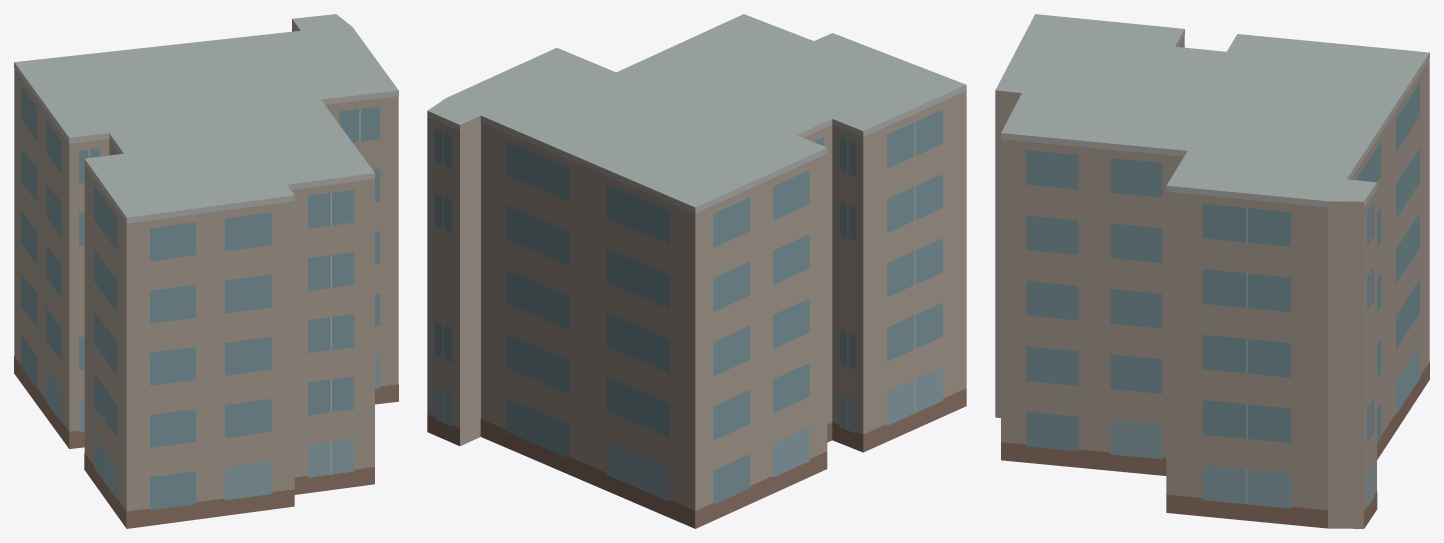
Rendered from survey-upis-32702454.glb.
3 views of the same model, side by side, from view 1: azimuth 30°, elevation 25°; view 2: azimuth 150°, elevation 25°; view 3: azimuth 270°, elevation 25° (orthographic). The views are drawn at different scales.
Visible parts, largest first — view 1: survey-upis-32702454.tmp; view 2: survey-upis-32702454.tmp; view 3: survey-upis-32702454.tmp.
Part boxes in pixels (<box>): survey-upis-32702454.tmp: <box>14,14,398,528</box>; survey-upis-32702454.tmp: <box>427,14,966,528</box>; survey-upis-32702454.tmp: <box>995,14,1429,528</box>.
Size of the model in its own units: 16.15 by 13.12 by 15.8.
